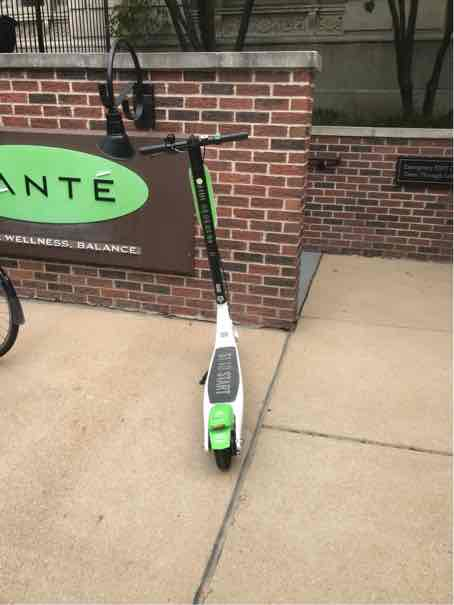scooter: (129, 125, 272, 475)
